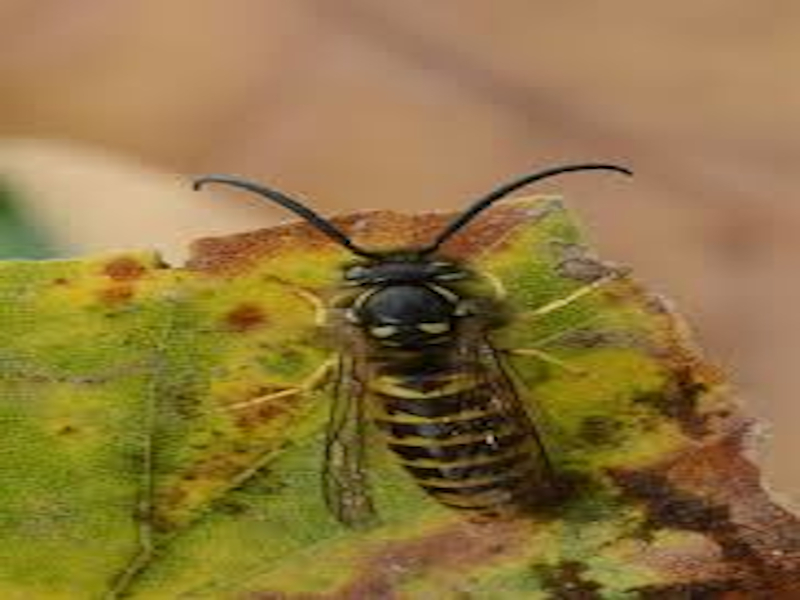chax: (176, 108, 712, 521)
